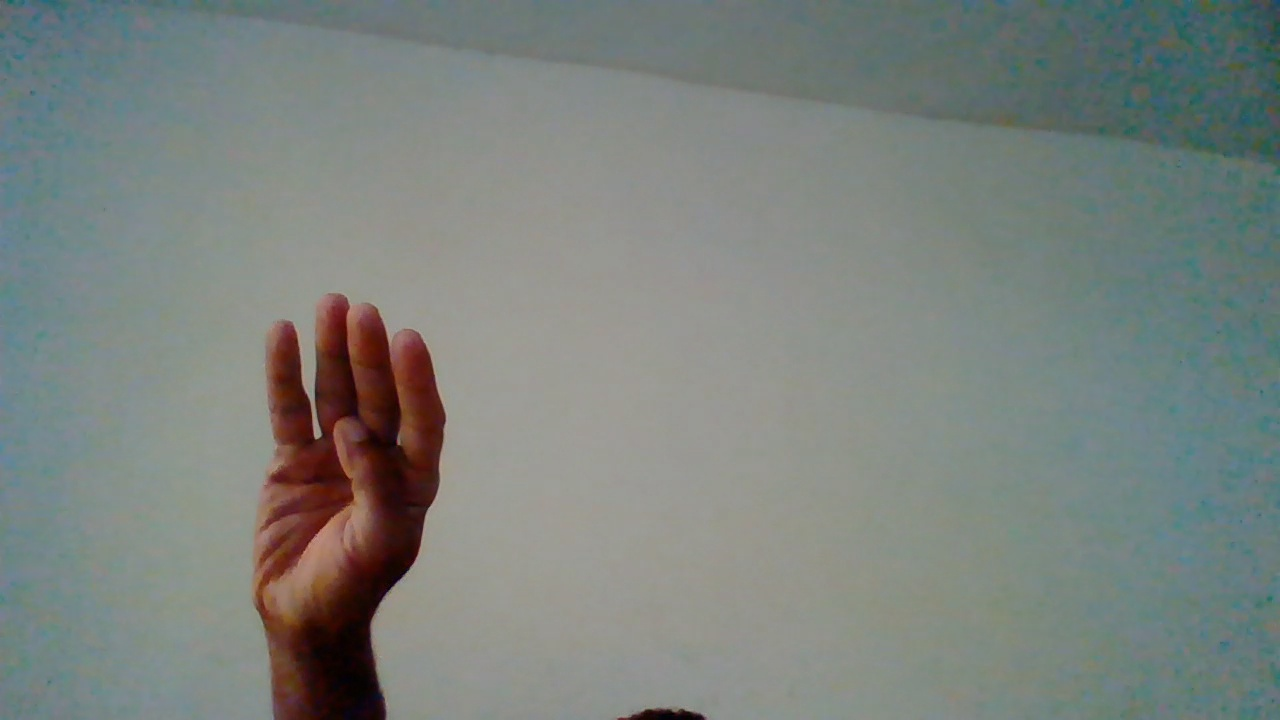me: (251, 289, 442, 706)
